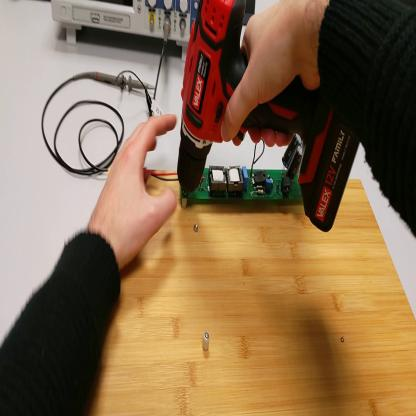electric screwdriver: (176, 1, 364, 236)
hand: (225, 4, 324, 145), (91, 112, 178, 265)
high voltage board: (146, 133, 303, 200)
oscilloscope: (51, 3, 192, 59)
oscilloscope probe tip: (82, 65, 157, 98)
working area: (86, 166, 416, 416)
